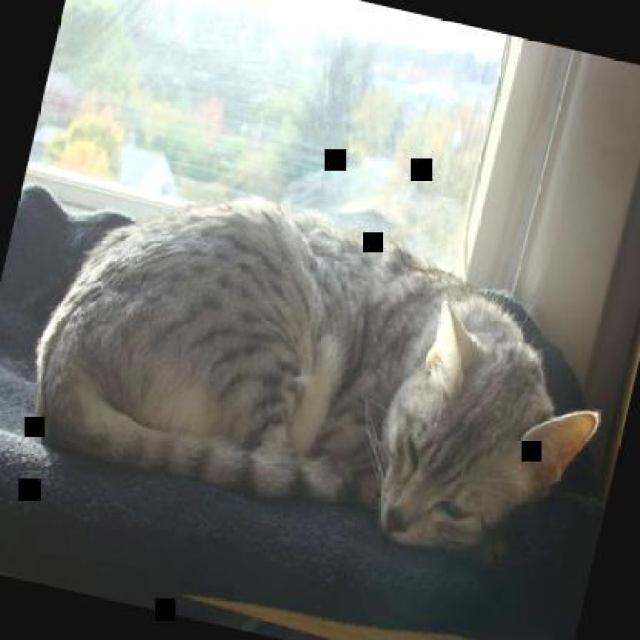cat: (13, 155, 632, 583)
